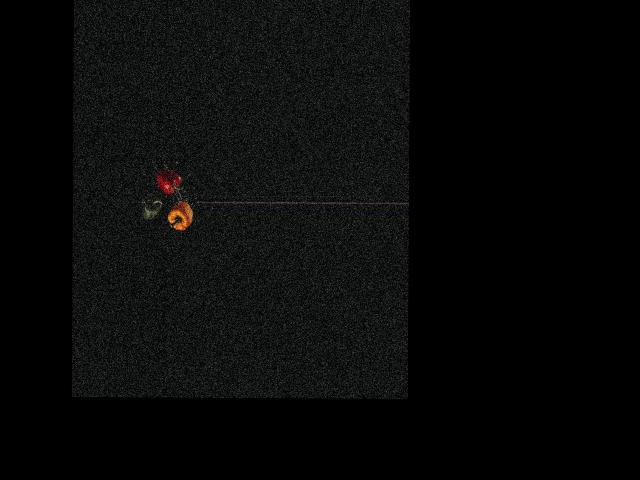bell_pepper: (151, 169, 187, 198)
